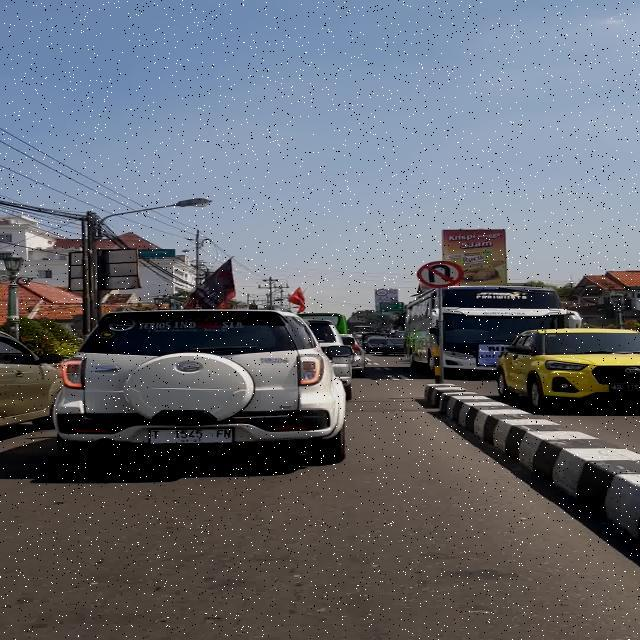Dilarang Putar Balik: (416, 260, 464, 288)
